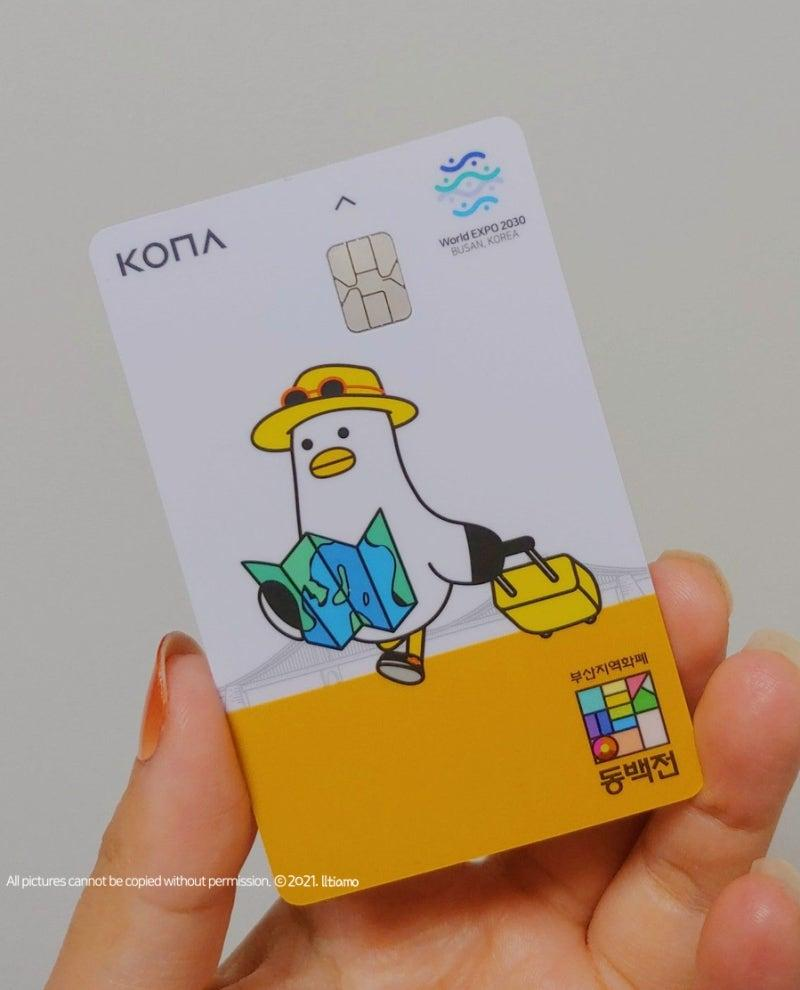Credit_card: (90, 120, 701, 904)
